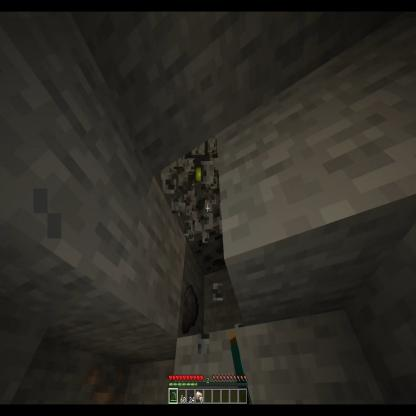coal ore: (188, 212, 226, 278)
iron ore: (82, 354, 132, 407)
